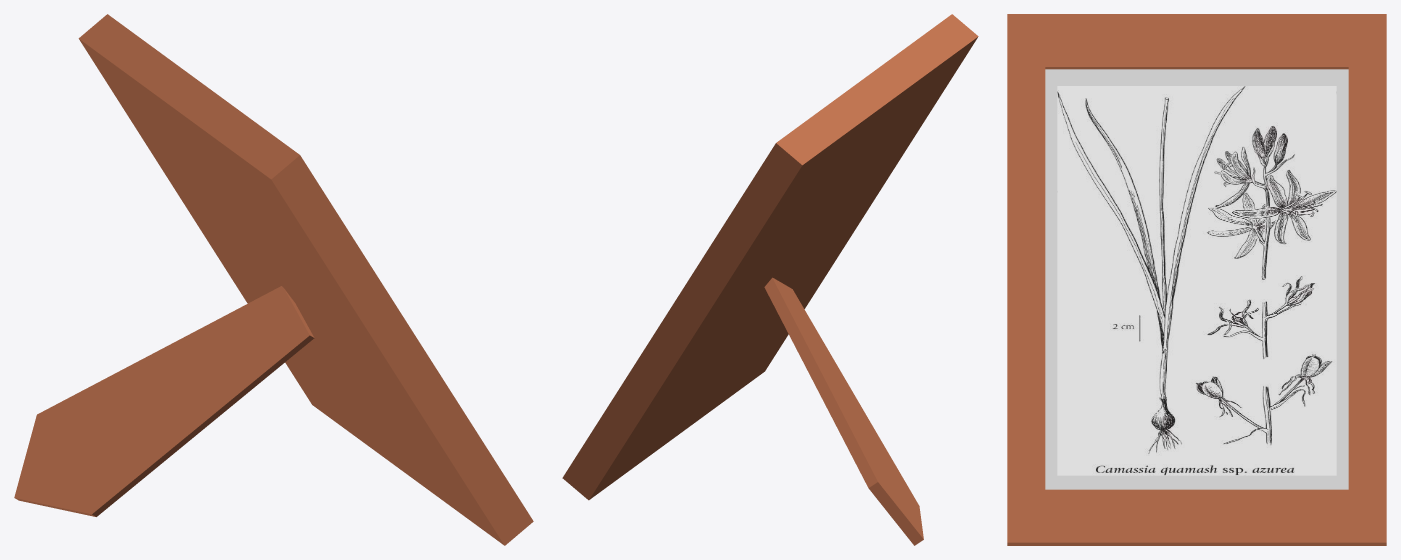
Rendered from picture-frame-1-1.glb.
3 renders of one model, left to right at view 1: azimuth 30°, elevation 25°; view 2: azimuth 150°, elevation 25°; view 3: azimuth 270°, elevation 25°, orthographic. The views are drawn at different scales.
Visible parts, largest first — view 1: Plane, Plane.001; view 2: Plane, Plane.001; view 3: Plane.
Boxes of the visible parts, box(x1,y1,x2,y2) form: Plane: box(78, 14, 533, 545); Plane.001: box(14, 286, 314, 516); Plane: box(562, 14, 978, 500); Plane.001: box(764, 277, 923, 545); Plane: box(1007, 14, 1386, 545).
Bounding box in the file's own units: 2.16 × 2.52 × 2.
3 materials, 1 textured.
